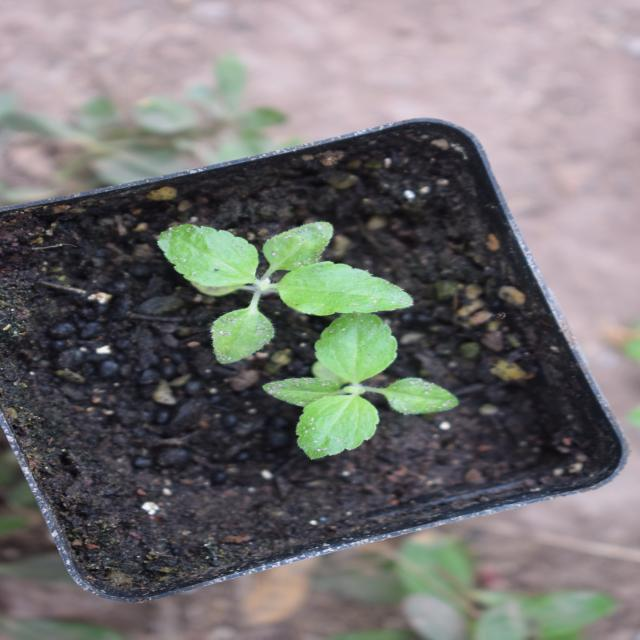billygoat_weed: (203, 220, 361, 472), (319, 196, 463, 386)
